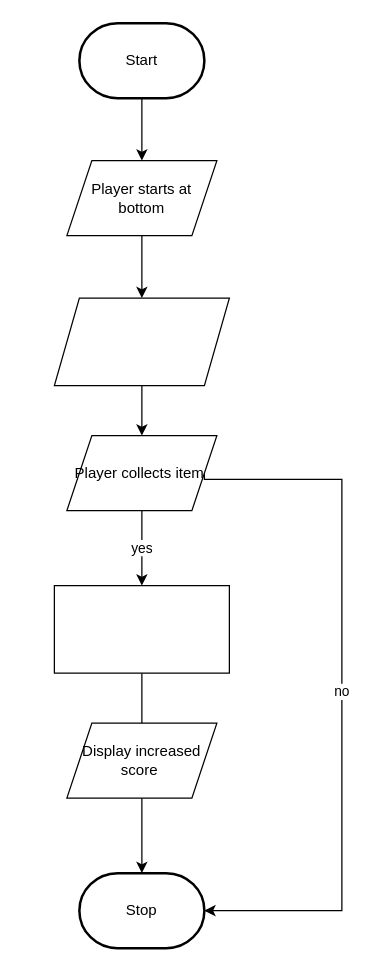
Image size: 374x970. Some labels were removed from this diagram. The centre of each missing label's shape, as x and y in pixels:
"candyCollide.destroy(); this.score += 1;" belongs at point (141, 628).
"Heart spawns in random locations" belongs at point (141, 341).
